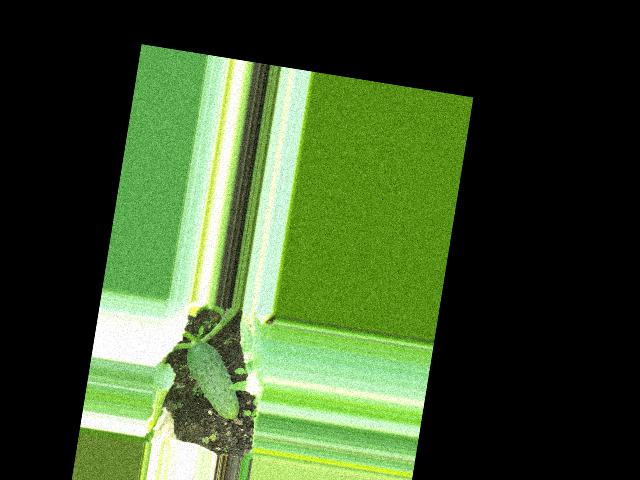cucumber: (177, 339, 249, 420)
